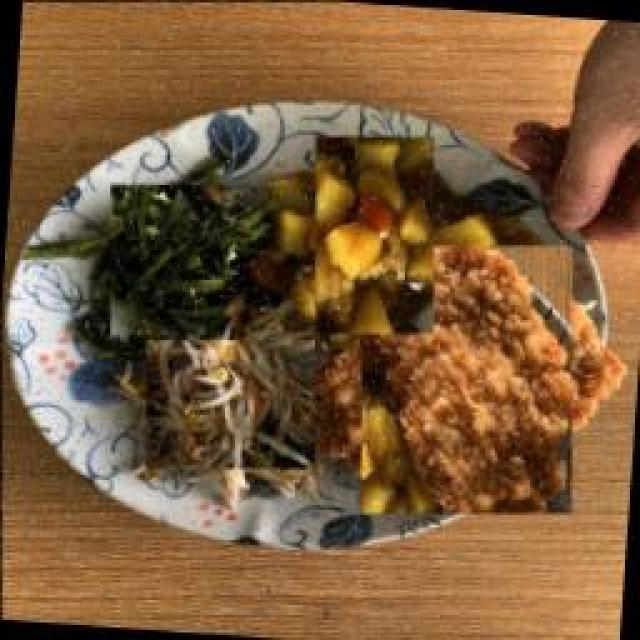curry: (283, 145, 463, 325)
fried_chicken: (330, 243, 603, 516)
mung_bean_sprouts: (135, 325, 323, 480)
water_spinach: (90, 185, 240, 335)
